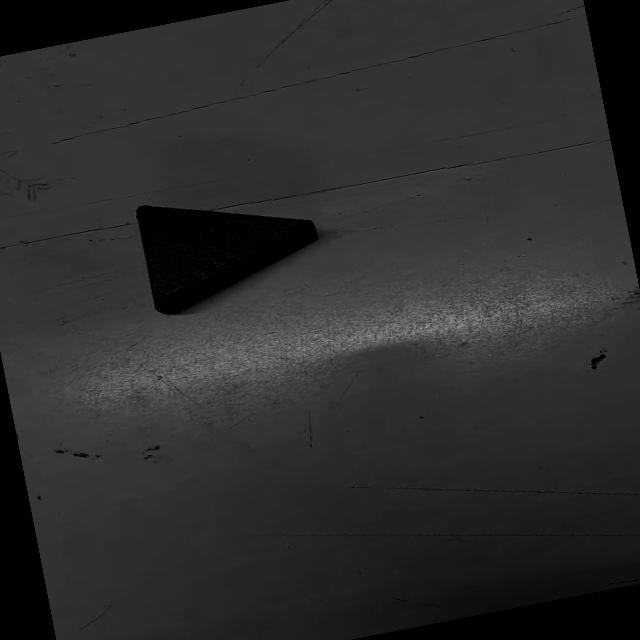btriangle: (128, 172, 329, 318)
